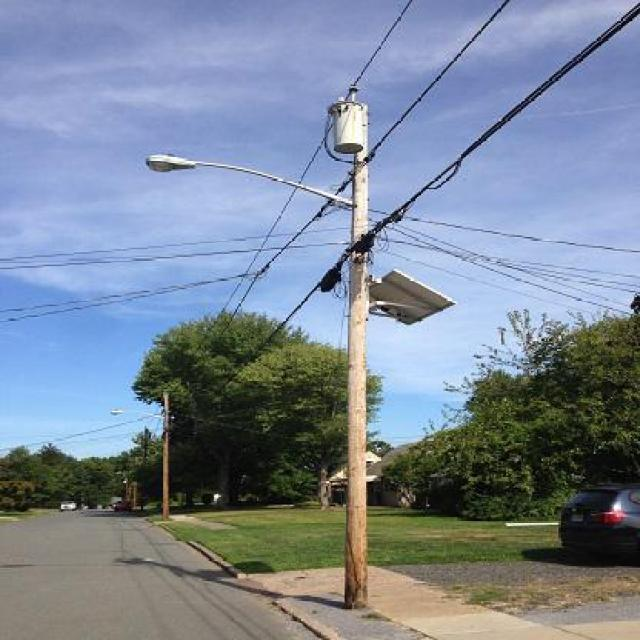pole: (297, 82, 405, 606)
